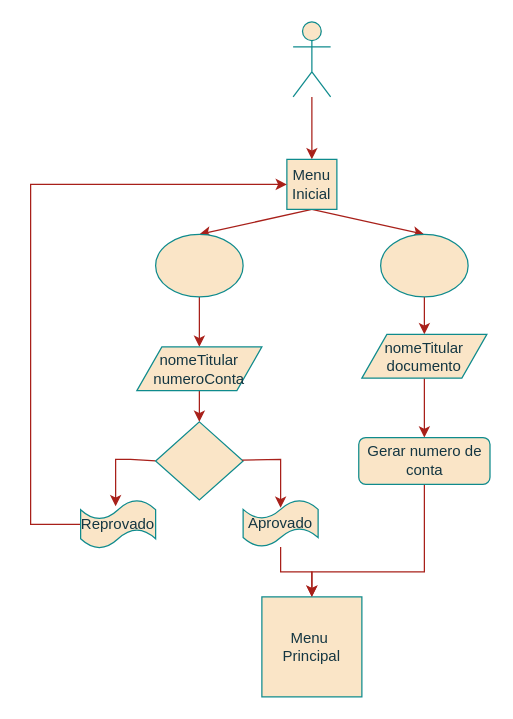
Some shapes in this 513 by 719 pixel diagram are drawn without their labels. Here are the shapes that lost their labels. From the top down, the box of each, then its label:
(292, 21, 331, 97): Usuario
(154, 233, 243, 297): Login
(379, 233, 468, 297): Criar conta
(154, 421, 243, 500): Verificacao
